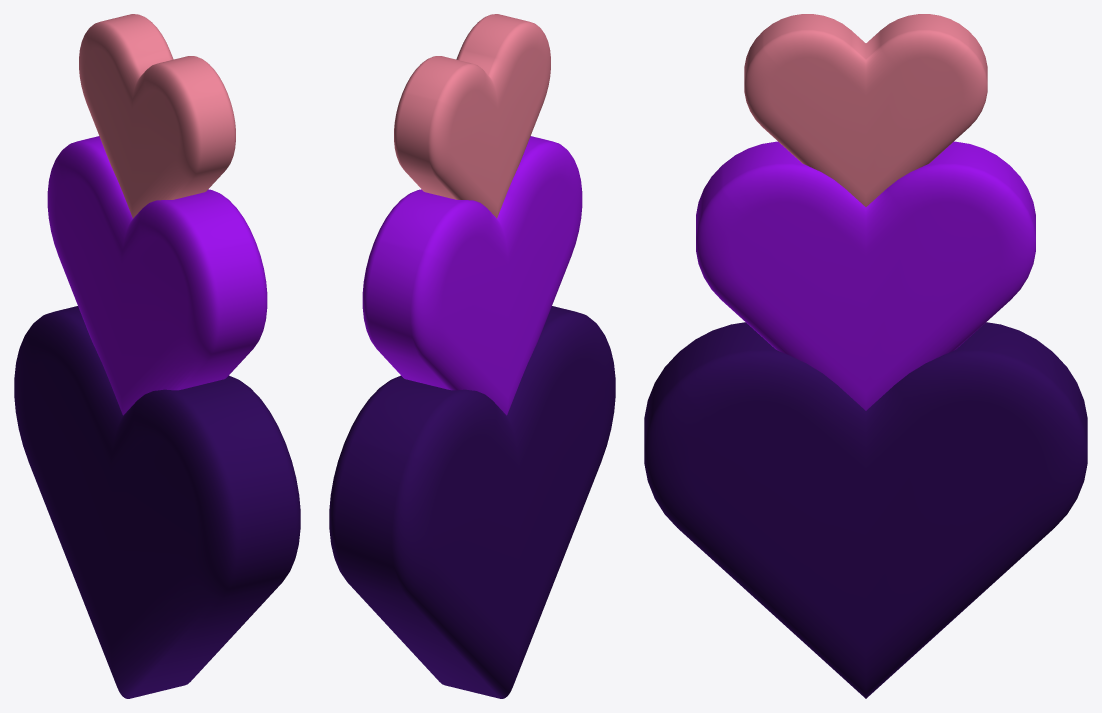
The model's file is orb.fbx.
3 views of the same model, side by side, from view 1: azimuth 30°, elevation 25°; view 2: azimuth 150°, elevation 25°; view 3: azimuth 270°, elevation 25° (orthographic). The views are drawn at different scales.
Parts seen in each view (by area): view 1: Cube; view 2: Cube; view 3: Cube.
Boxes of the visible parts, x1,y1,x2,y2 form: Cube: (14, 14, 300, 698); Cube: (329, 14, 615, 698); Cube: (644, 14, 1087, 698).
Bounding box in the file's own units: 95.52 × 636 × 386.
